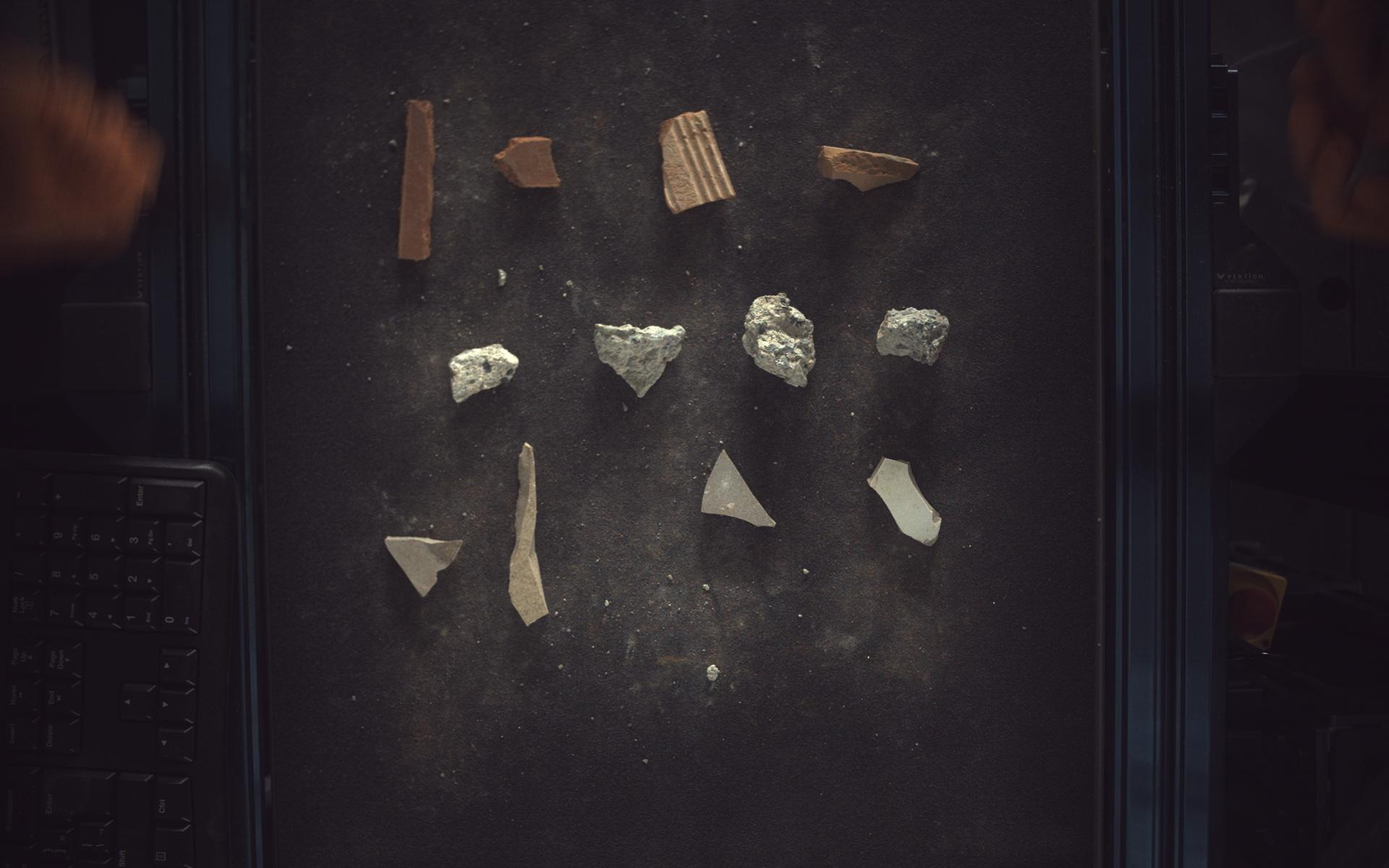brick: (660, 109, 736, 213), (398, 99, 435, 260), (820, 145, 921, 191), (495, 135, 561, 187)
concrete: (744, 293, 817, 387), (595, 324, 686, 397), (879, 307, 951, 365), (449, 344, 519, 403)
tile: (509, 443, 549, 626), (869, 458, 943, 546), (703, 450, 777, 527), (385, 537, 462, 597)
